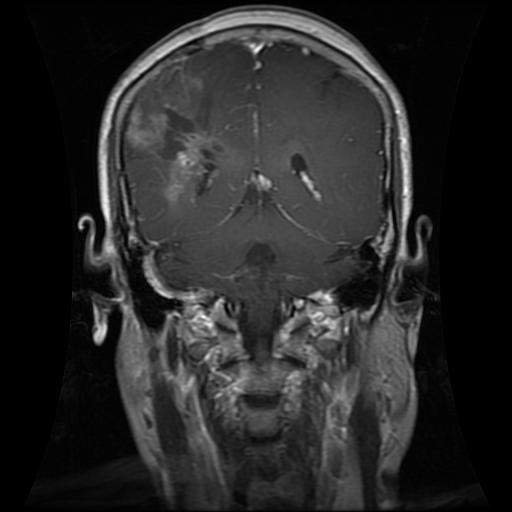Gliomia_tumour: (126, 60, 238, 209)
